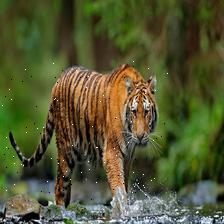tiger: (0, 61, 168, 213)
